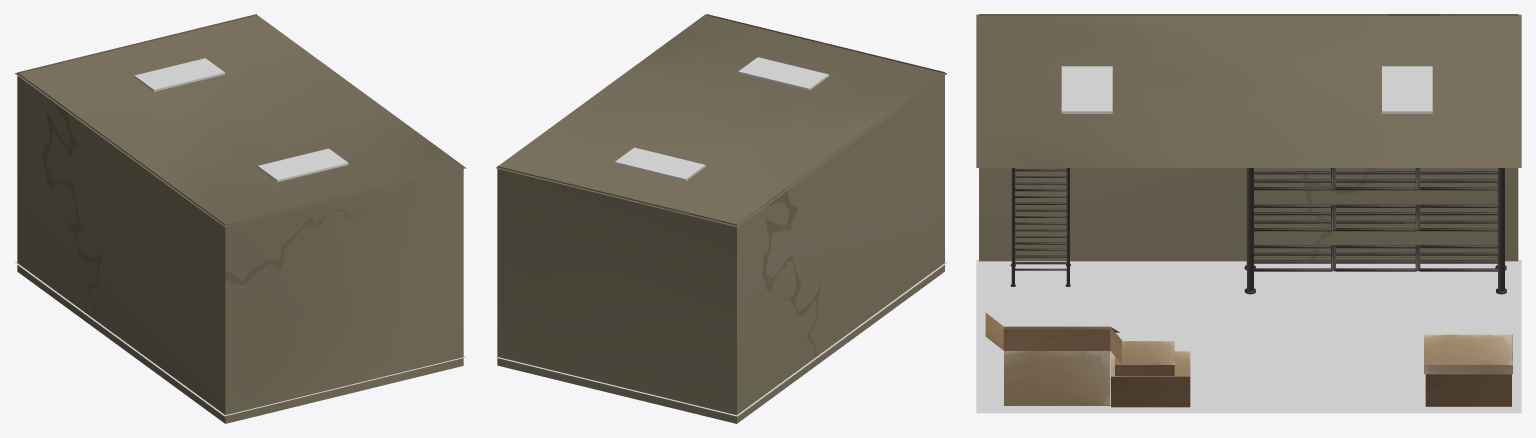
Rendered from storage (2).fbx.
The picture shows the model from 3 angles, left to right: view 1: azimuth 30°, elevation 25°; view 2: azimuth 150°, elevation 25°; view 3: azimuth 270°, elevation 25°; orthographic projection. The views are drawn at different scales.
Visible parts, largest first — view 1: walls, ceiling, lights, floor; view 2: walls, ceiling, lights, floor; view 3: ceiling, floor, walls, Cube, wire shelf 1, lights, wire shelf 1.001, Cylinder, Cylinder.001.
Boxes of the visible parts, x1,y1,x2,y2 form: walls: (17, 14, 463, 423); ceiling: (15, 15, 466, 227); lights: (134, 58, 348, 181); floor: (15, 262, 465, 416); walls: (497, 14, 944, 423); ceiling: (495, 14, 947, 227); lights: (614, 57, 828, 181); floor: (495, 262, 947, 416); ceiling: (976, 14, 1521, 167); floor: (976, 260, 1521, 413); walls: (979, 14, 1518, 261); Cube: (985, 312, 1512, 407); wire shelf 1: (1253, 168, 1498, 271); lights: (1061, 66, 1432, 113); wire shelf 1.001: (1015, 169, 1066, 270); Cylinder: (1244, 168, 1255, 294); Cylinder.001: (1496, 168, 1506, 294).
Size of the model in its own units: 1427 by 1126 by 2145.
6 materials, 5 textured.
